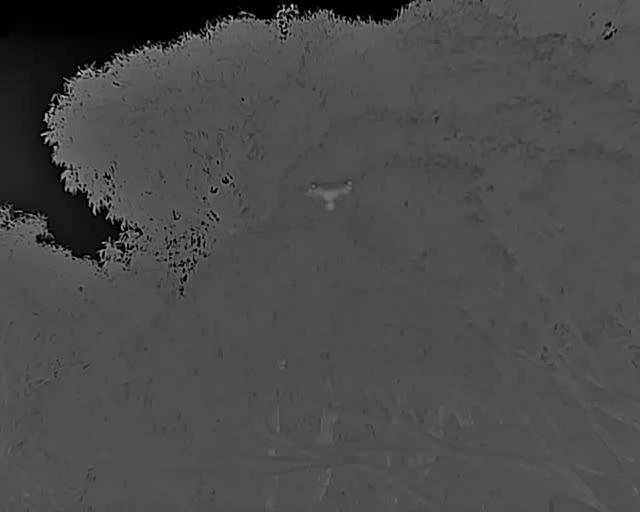DJI-Phantom: (308, 179, 353, 211)
